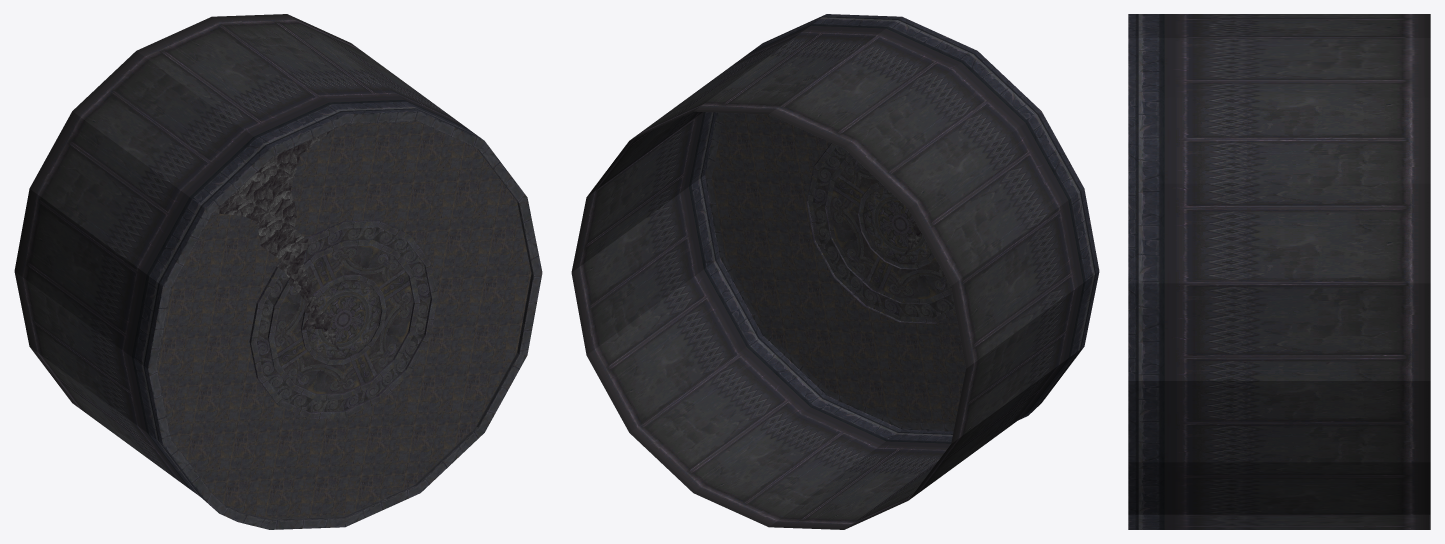
The model's file is huodong_fuben_652_pingtai01_dimian_yuantai.obj.
The picture shows the model from 3 angles, left to right: view 1: azimuth 30°, elevation 25°; view 2: azimuth 150°, elevation 25°; view 3: azimuth 270°, elevation 25°; orthographic projection. The views are drawn at different scales.
Parts seen in each view (by area): view 1: huodong_fuben_652_pingtai01_dimian_yuantai; view 2: huodong_fuben_652_pingtai01_dimian_yuantai; view 3: huodong_fuben_652_pingtai01_dimian_yuantai.
Part boxes in pixels (box(x1,y1,x2,y2)): huodong_fuben_652_pingtai01_dimian_yuantai: box(14, 14, 542, 529); huodong_fuben_652_pingtai01_dimian_yuantai: box(571, 14, 1099, 529); huodong_fuben_652_pingtai01_dimian_yuantai: box(1128, 14, 1430, 529).
Size of the model in its own units: 3899 by 3899 by 2284.
Materials: 4 (4 with a texture image).
